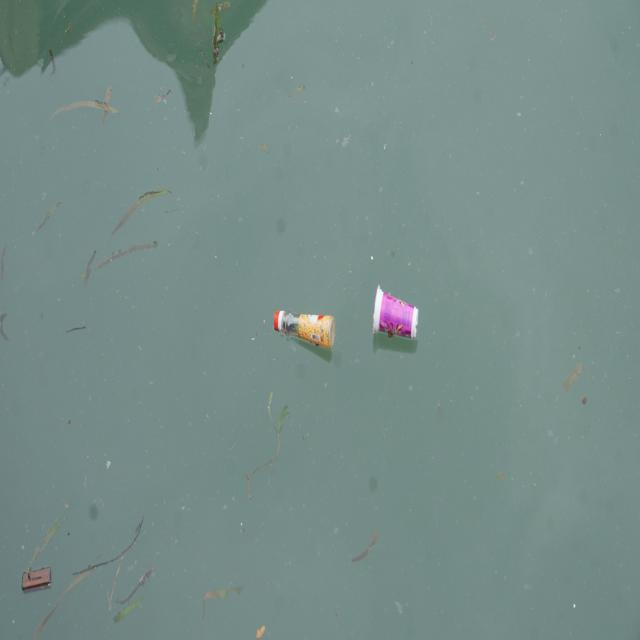Botol Plastik: (269, 304, 343, 357)
Bungkus Minuman: (370, 279, 423, 352)
